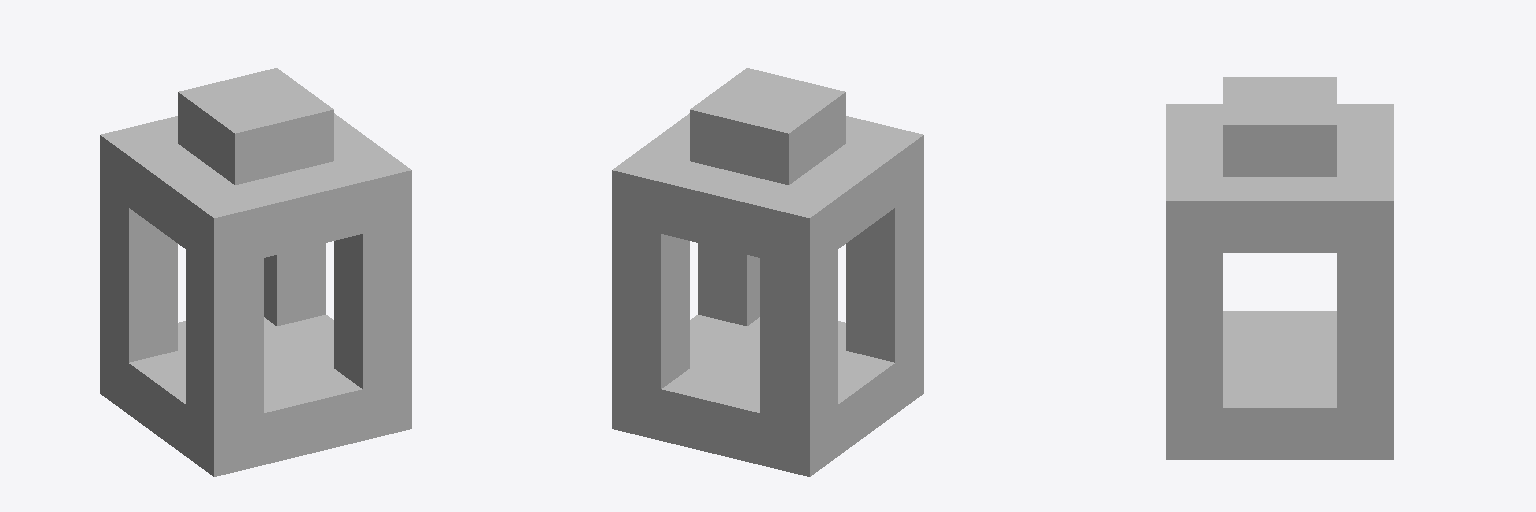
File: civ_well.obj
The picture shows the model from 3 angles: view 1: azimuth 30°, elevation 25°; view 2: azimuth 150°, elevation 25°; view 3: azimuth 270°, elevation 25°; orthographic projection.
Parts seen in each view (by area): view 1: model.002; view 2: model.002; view 3: model.002.
Part boxes in pixels (bbox=[...]): model.002: bbox=[100, 68, 411, 476]; model.002: bbox=[612, 68, 923, 476]; model.002: bbox=[1166, 77, 1393, 459].
Size of the model in its own units: 0.25 by 0.375 by 0.25.